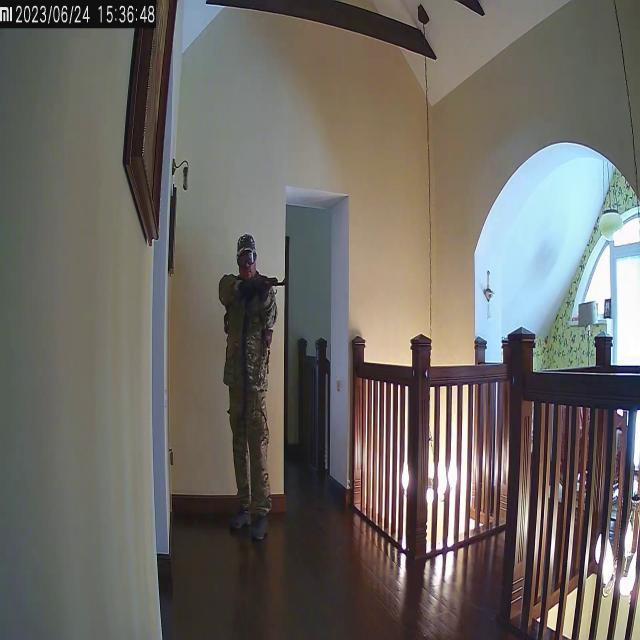pistol: (236, 272, 292, 296)
